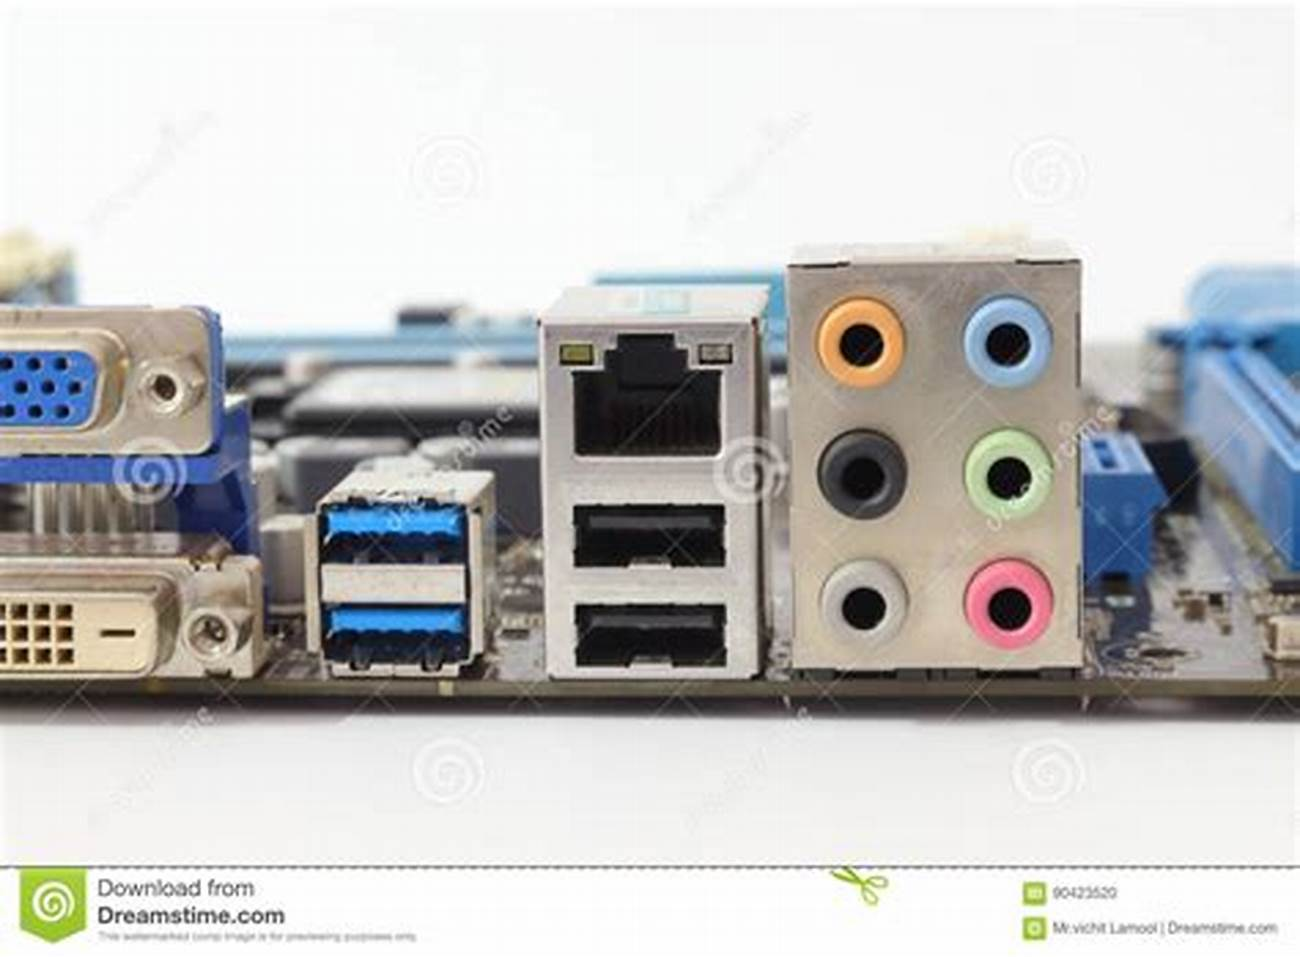Audio: (811, 298, 920, 394), (811, 429, 916, 528), (958, 550, 1057, 648), (953, 294, 1060, 383), (959, 427, 1060, 518), (817, 553, 919, 642)
Ethernet: (539, 335, 754, 489)
USB: (554, 589, 744, 674), (556, 500, 744, 575), (314, 587, 478, 671), (314, 498, 478, 574)
